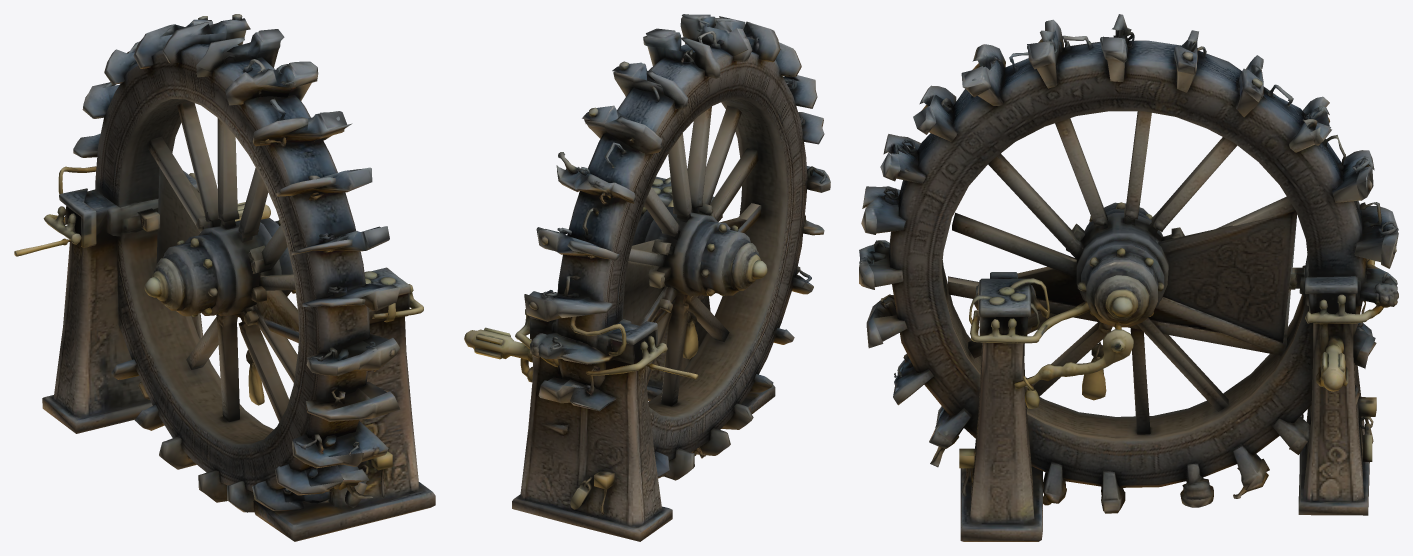
Rendered from ch6_great_hydraulic_wheel.glb.
3 renders of one model, left to right at view 1: azimuth 30°, elevation 25°; view 2: azimuth 150°, elevation 25°; view 3: azimuth 270°, elevation 25°, orthographic. The views are drawn at different scales.
Visible parts, largest first — view 1: tripo_node_3a9f80ba-cd3d-47f6-89a2-44492e5448fd; view 2: tripo_node_3a9f80ba-cd3d-47f6-89a2-44492e5448fd; view 3: tripo_node_3a9f80ba-cd3d-47f6-89a2-44492e5448fd.
Part boxes in pixels (<box>): tripo_node_3a9f80ba-cd3d-47f6-89a2-44492e5448fd: <box>14,14,435,541</box>; tripo_node_3a9f80ba-cd3d-47f6-89a2-44492e5448fd: <box>464,14,830,541</box>; tripo_node_3a9f80ba-cd3d-47f6-89a2-44492e5448fd: <box>859,14,1398,541</box>.
Bounding box in the file's own units: 0.5566 × 0.959 × 0.998.
1 material, 1 textured.
